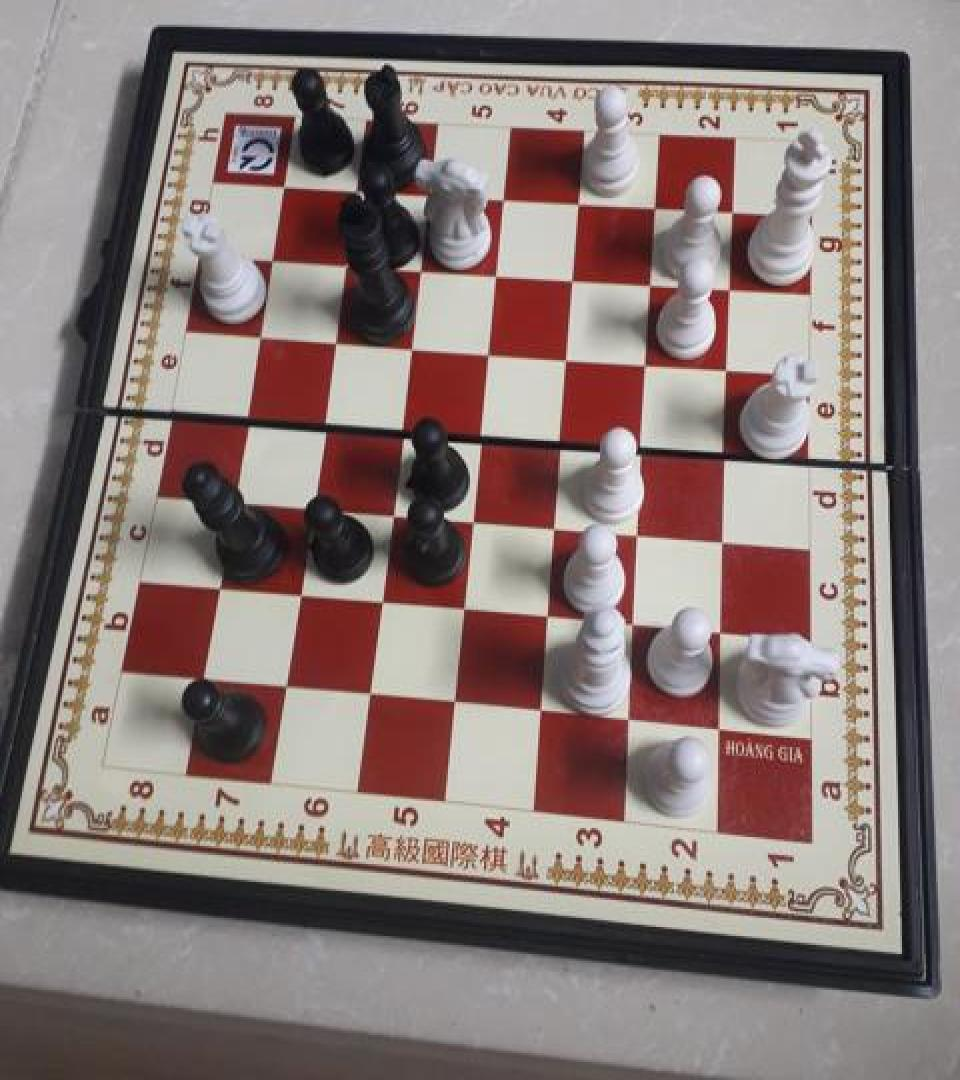xcorner: (414, 177, 444, 212), (563, 184, 593, 219), (190, 659, 220, 693), (273, 667, 303, 701), (356, 676, 386, 710), (441, 684, 471, 718), (527, 692, 557, 726), (615, 701, 645, 735), (704, 708, 734, 742), (205, 568, 235, 602), (285, 575, 315, 609), (367, 582, 397, 616), (450, 590, 480, 624), (534, 596, 564, 630), (619, 604, 649, 638), (706, 612, 736, 646), (220, 482, 250, 516), (298, 487, 328, 521), (458, 500, 488, 534), (540, 506, 570, 540), (624, 513, 654, 547), (708, 518, 738, 552), (233, 398, 263, 432), (387, 408, 417, 442), (466, 414, 496, 448), (546, 420, 576, 454), (628, 425, 658, 459), (710, 431, 740, 465), (246, 318, 276, 352), (321, 323, 351, 357), (474, 333, 504, 367), (631, 342, 661, 376), (712, 348, 742, 382), (258, 243, 288, 277), (331, 248, 361, 282), (406, 251, 436, 285), (481, 255, 511, 289), (557, 260, 587, 294), (635, 263, 665, 297), (714, 268, 744, 302), (270, 171, 300, 205), (342, 174, 372, 208), (488, 181, 518, 215), (639, 188, 669, 222), (716, 191, 746, 225), (377, 493, 407, 526), (310, 403, 340, 436), (397, 329, 427, 362), (552, 338, 582, 371)
